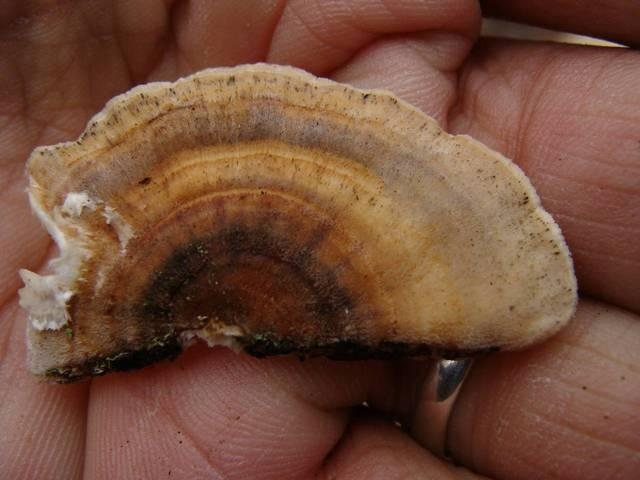Non-edible Mushroom: (16, 61, 579, 386)
